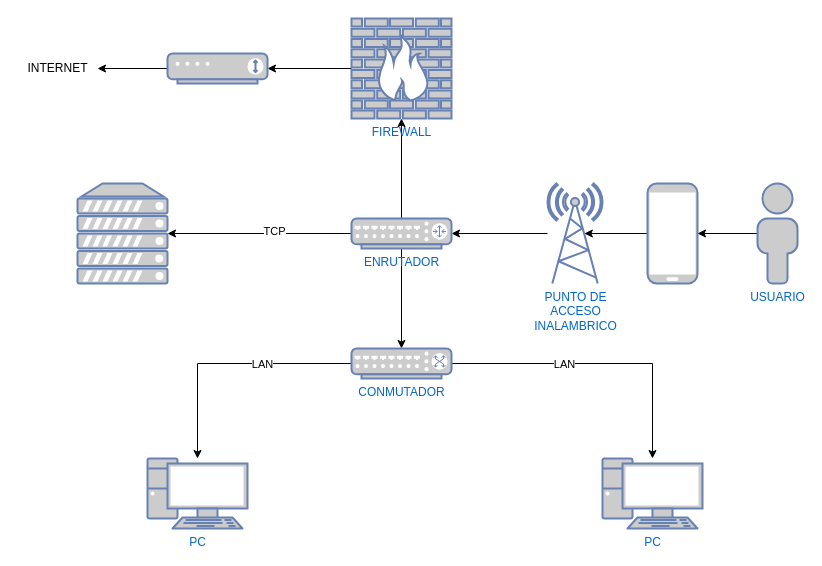
Some shapes in this 822 by 566 pixel diagram are drawn without their labels. The shapes that lost their labels are listed below. From the top down, each one's centre as x and y in pixels, then its label:
At (x=217, y=68): "MODEM".
At (x=122, y=233): "SERVIDOR".
At (x=672, y=233): "TELEFONO".
